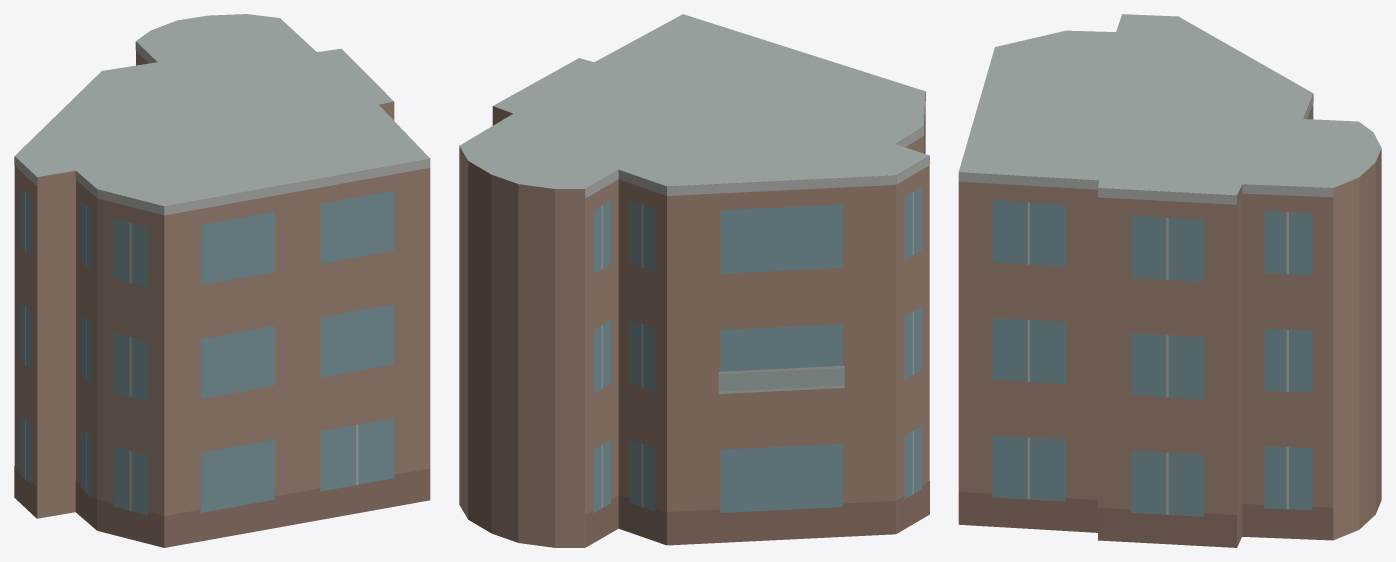
File: survey-upis-33038985.glb
3 renders of one model, left to right at view 1: azimuth 30°, elevation 25°; view 2: azimuth 150°, elevation 25°; view 3: azimuth 270°, elevation 25°, orthographic. The views are drawn at different scales.
Parts seen in each view (by area): view 1: survey-upis-33038985.tmp; view 2: survey-upis-33038985.tmp; view 3: survey-upis-33038985.tmp.
Boxes of the visible parts, x1,y1,x2,y2 form: survey-upis-33038985.tmp: (14, 14, 430, 547); survey-upis-33038985.tmp: (459, 14, 929, 547); survey-upis-33038985.tmp: (958, 14, 1381, 547).
Size of the model in its own units: 10.05 by 9.1 by 9.91.
